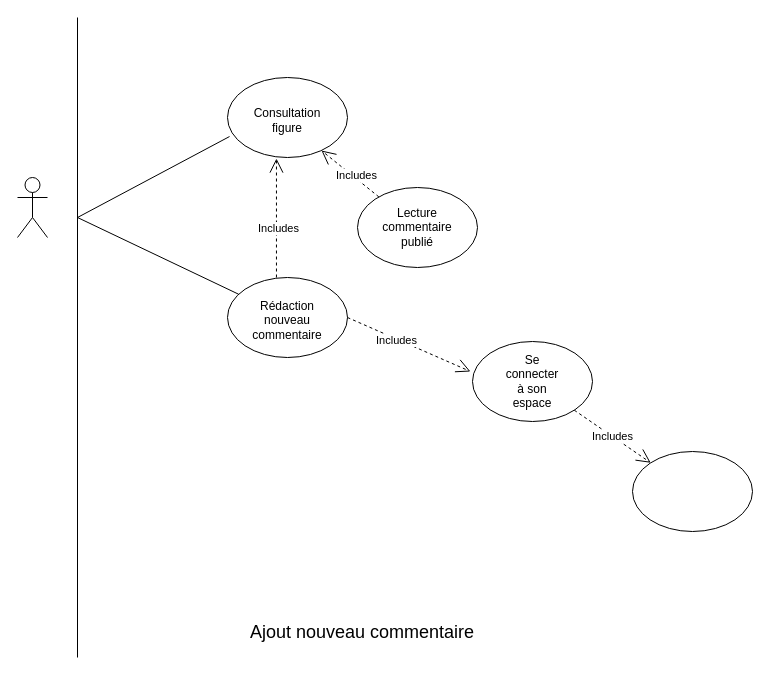
The diagram is 770 pixels wide and 676 high, and some of its shapes have lost their labels. Each missing label, with the centre of its shape:
"S'authentifier" goes at pixel 692 491.
"User" goes at pixel 32 207.
